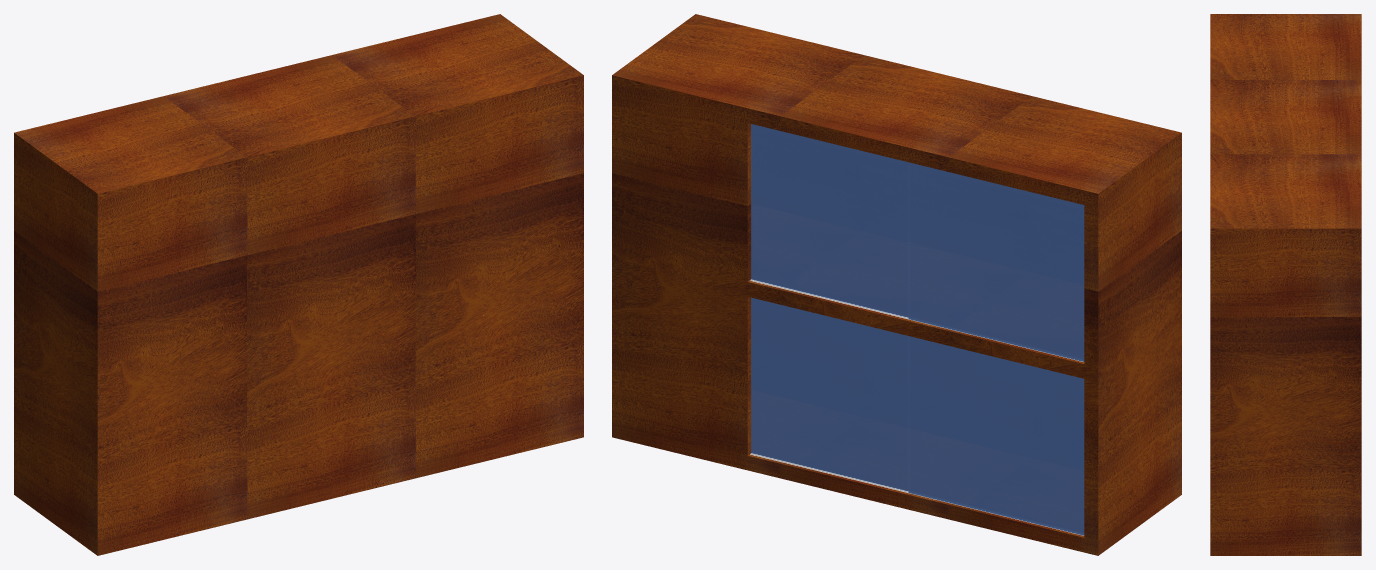
3 views of the same model, side by side, from view 1: azimuth 30°, elevation 25°; view 2: azimuth 150°, elevation 25°; view 3: azimuth 270°, elevation 25° (orthographic). The views are drawn at different scales.
Parts seen in each view (by area): view 1: mesh28_mesh28-geometry; view 2: mesh28_mesh28-geometry, mesh19_mesh19-geometry, mesh18_mesh18-geometry, mesh1_mesh1-geometry, mesh17_mesh17-geometry; view 3: mesh28_mesh28-geometry.
Boxes of the visible parts, x1,y1,x2,y2 form: mesh28_mesh28-geometry: (14,14,583,555); mesh28_mesh28-geometry: (612,14,1181,555); mesh19_mesh19-geometry: (908,162,1084,361); mesh18_mesh18-geometry: (908,336,1084,535); mesh1_mesh1-geometry: (751,124,908,317); mesh17_mesh17-geometry: (751,297,908,491); mesh28_mesh28-geometry: (1210,14,1361,555).
Bounding box in the file's own units: 0.7918 × 0.5634 × 0.236.
